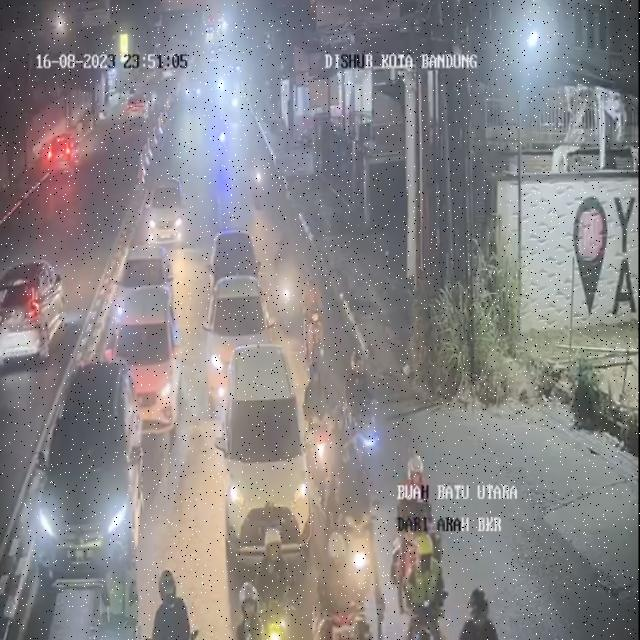cars: (30, 357, 138, 593), (218, 334, 310, 556), (113, 242, 184, 440), (204, 271, 265, 411), (111, 238, 180, 347), (206, 226, 258, 300), (149, 172, 188, 250)
motorcycle: (335, 431, 384, 598), (395, 520, 445, 640), (318, 530, 369, 640), (393, 452, 436, 576), (250, 540, 294, 638), (348, 346, 382, 470), (144, 569, 199, 640), (274, 231, 298, 327), (454, 586, 495, 640), (314, 394, 335, 496), (239, 579, 269, 640), (304, 296, 325, 366), (257, 615, 300, 640), (215, 111, 229, 160)
